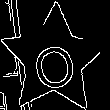O_N: (28, 30, 81, 90)
